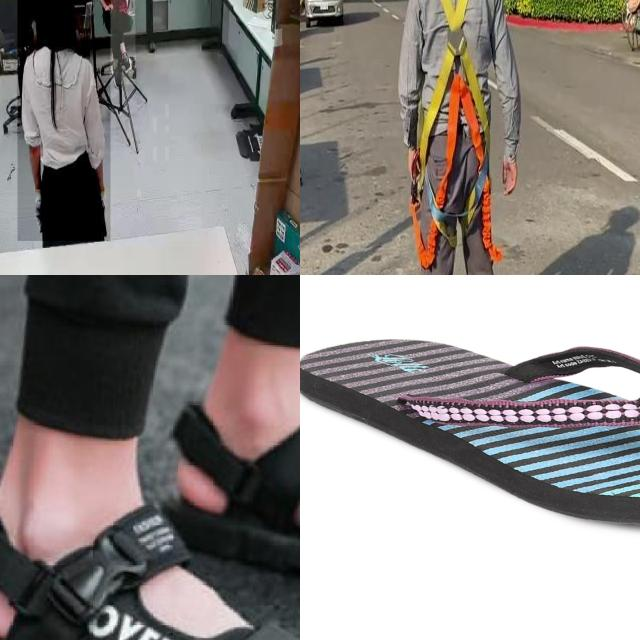Harness: (411, 74, 502, 270), (420, 0, 489, 164)
Sandals: (300, 335, 640, 530), (112, 344, 300, 640), (0, 460, 300, 640)
hand_noglove: (104, 2, 114, 12)
person: (17, 0, 110, 241), (90, 0, 136, 85)
shoes: (120, 50, 132, 74)
